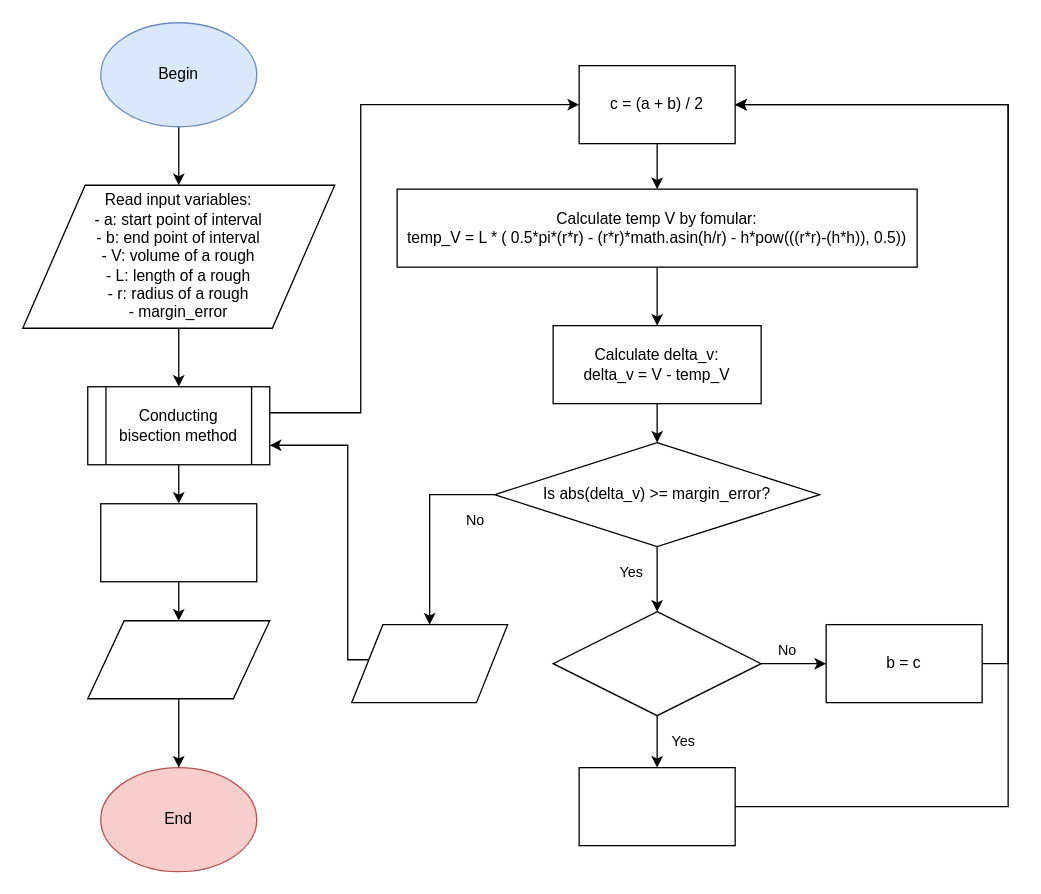
Some shapes in this 1041 by 894 pixel diagram are drawn without their labels. Each missing label, with the centre of its shape:
a = c: the point at 656,806
h = c dept = r - h: the point at 178,542
Is delta_v < 0?: the point at 656,663
Print out h, dept: the point at 178,659
Return c: the point at 429,663
